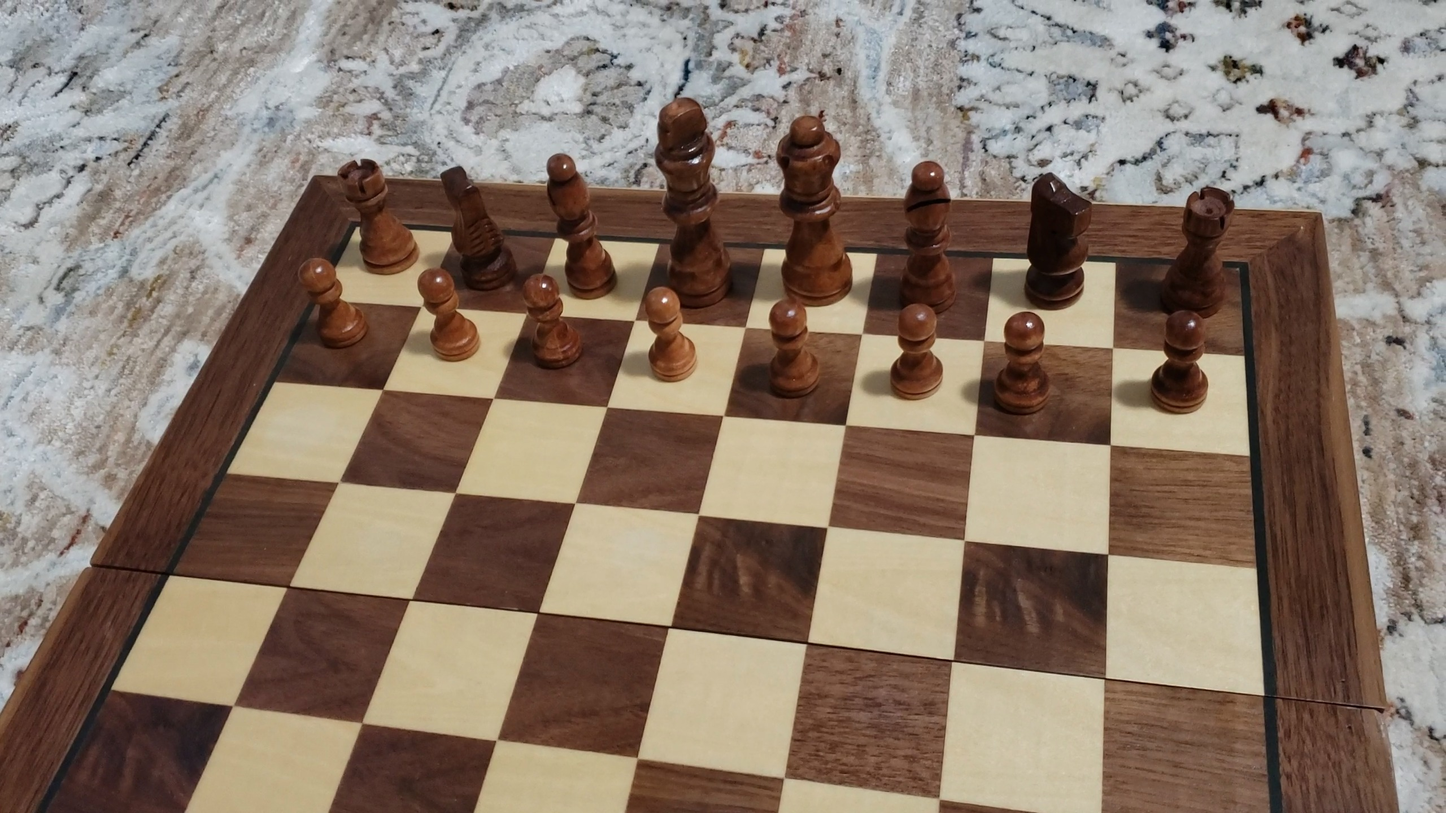black-bishop: (542, 150, 617, 298), (900, 158, 957, 314)
black-king: (651, 91, 734, 309)
black-knight: (1022, 169, 1095, 307), (439, 163, 516, 291)
black-pawn: (297, 256, 369, 350), (991, 309, 1052, 417), (1150, 309, 1211, 416), (521, 272, 583, 370), (417, 267, 480, 363), (765, 296, 822, 401), (889, 300, 944, 403), (644, 283, 697, 384)
black-queen: (770, 106, 855, 305)
black-rook: (1156, 183, 1234, 315), (336, 158, 418, 275)
